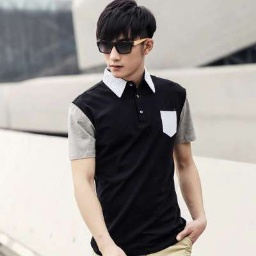face: (95, 1, 157, 79)
